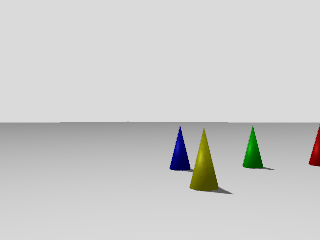blue: (169, 125, 190, 173)
green: (242, 123, 263, 170)
red: (308, 122, 320, 167)
yellow: (190, 126, 219, 193)
